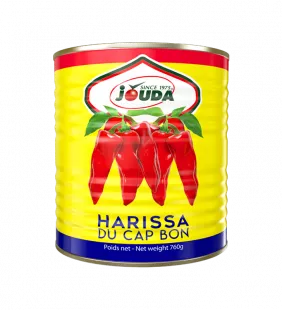JOUDA: (44, 35, 237, 276)
